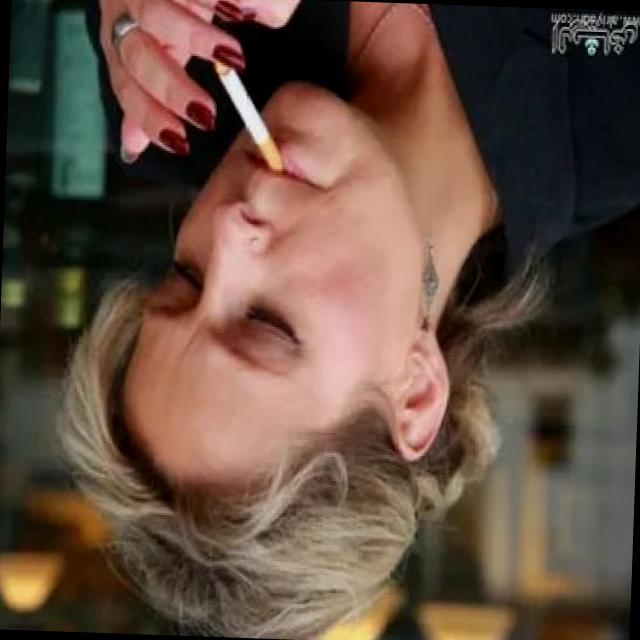smoke: (207, 46, 290, 177)
